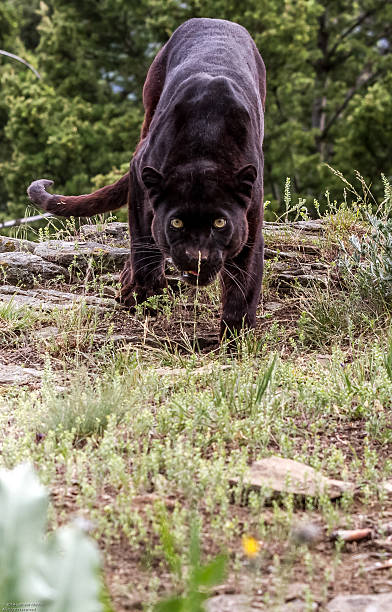panther: (129, 158, 267, 293)
